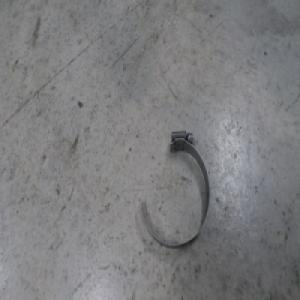AdjustableClamp: (139, 132, 210, 251)
